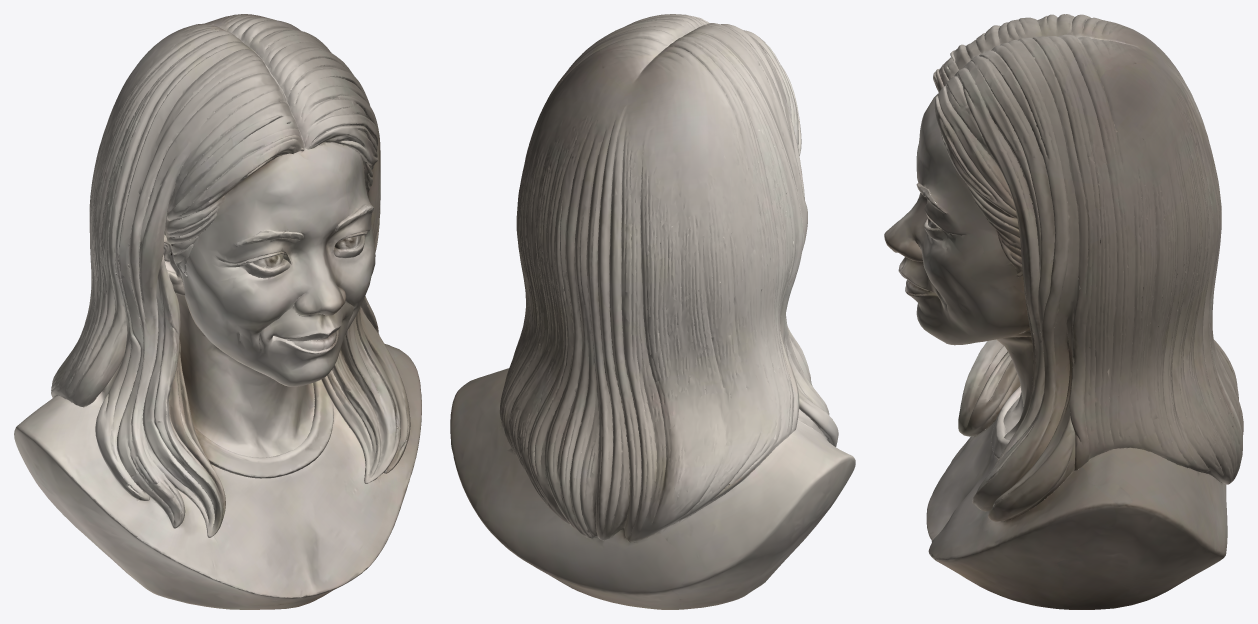
3 views of the same model, side by side, from view 1: azimuth 30°, elevation 25°; view 2: azimuth 150°, elevation 25°; view 3: azimuth 270°, elevation 25° (orthographic).
Parts seen in each view (by area): view 1: model; view 2: model; view 3: model.
Part boxes in pixels (x1,y1,x2,y2): model: (14, 14, 421, 609); model: (450, 14, 855, 609); model: (884, 14, 1243, 609).
Size of the model in its own units: 1.39 by 1.9 by 1.15.
Materials: 1 (1 with a texture image).
